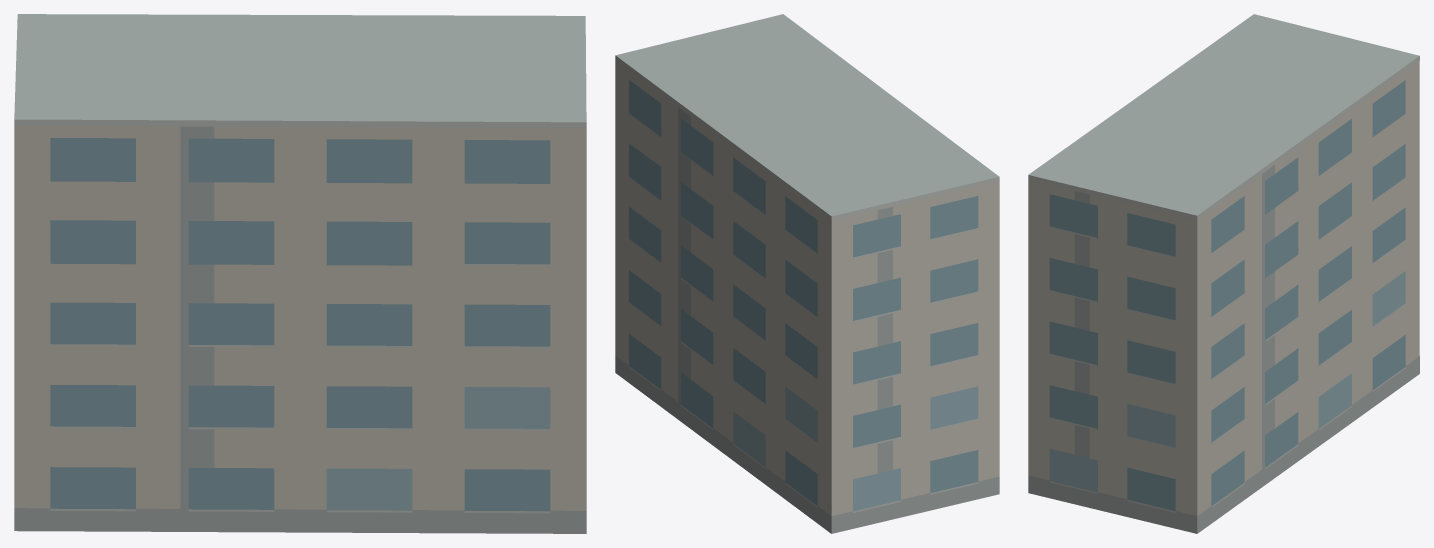
File: survey-upis-32768670.glb
3 views of the same model, side by side, from view 1: azimuth 30°, elevation 25°; view 2: azimuth 150°, elevation 25°; view 3: azimuth 270°, elevation 25° (orthographic). The views are drawn at different scales.
Parts seen in each view (by area): view 1: survey-upis-32768670.tmp; view 2: survey-upis-32768670.tmp; view 3: survey-upis-32768670.tmp.
Boxes of the visible parts, box(x1,y1,x2,y2) form: survey-upis-32768670.tmp: box(14, 14, 586, 533); survey-upis-32768670.tmp: box(615, 14, 999, 533); survey-upis-32768670.tmp: box(1028, 14, 1419, 533).
Size of the model in its own units: 21.83 by 16.05 by 17.91.
